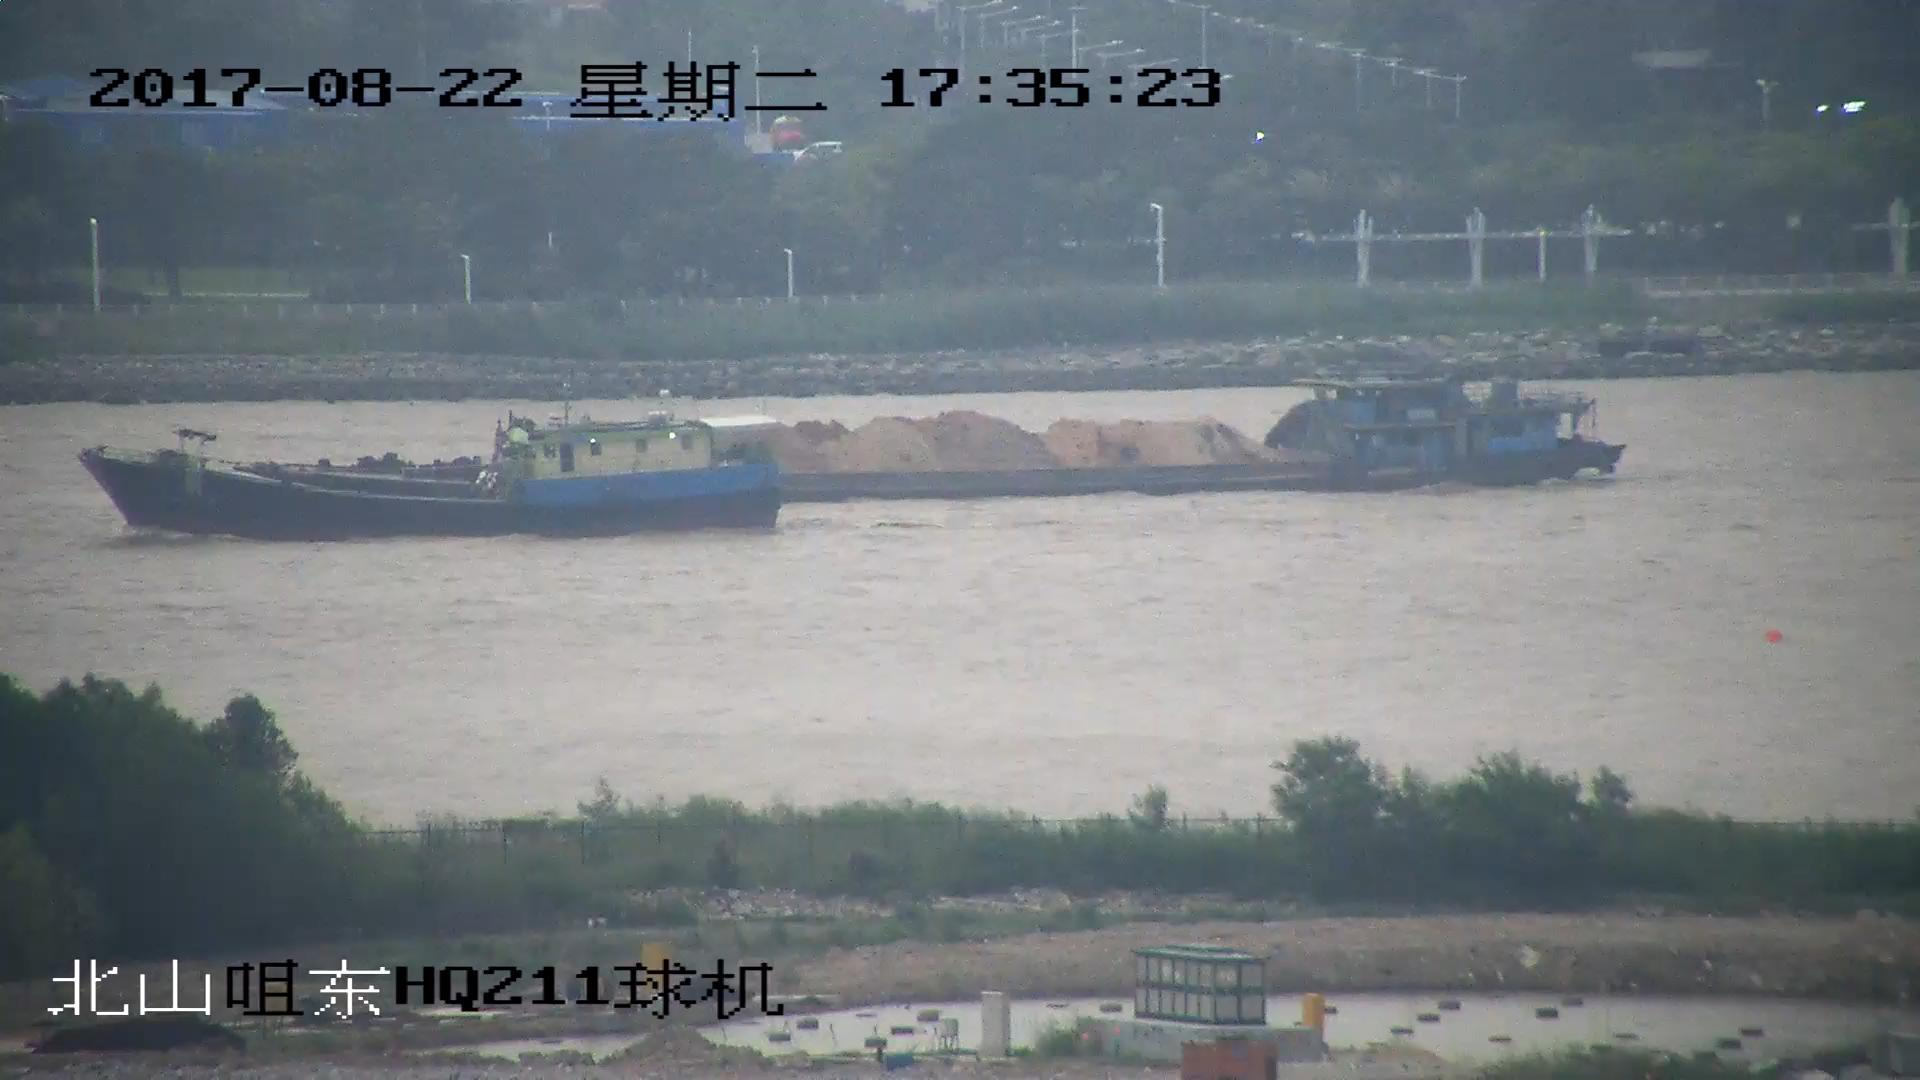Ship: (115, 372, 1625, 498), (80, 404, 786, 538)
